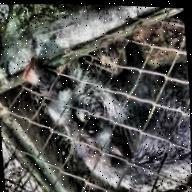boar: (16, 4, 192, 192)
